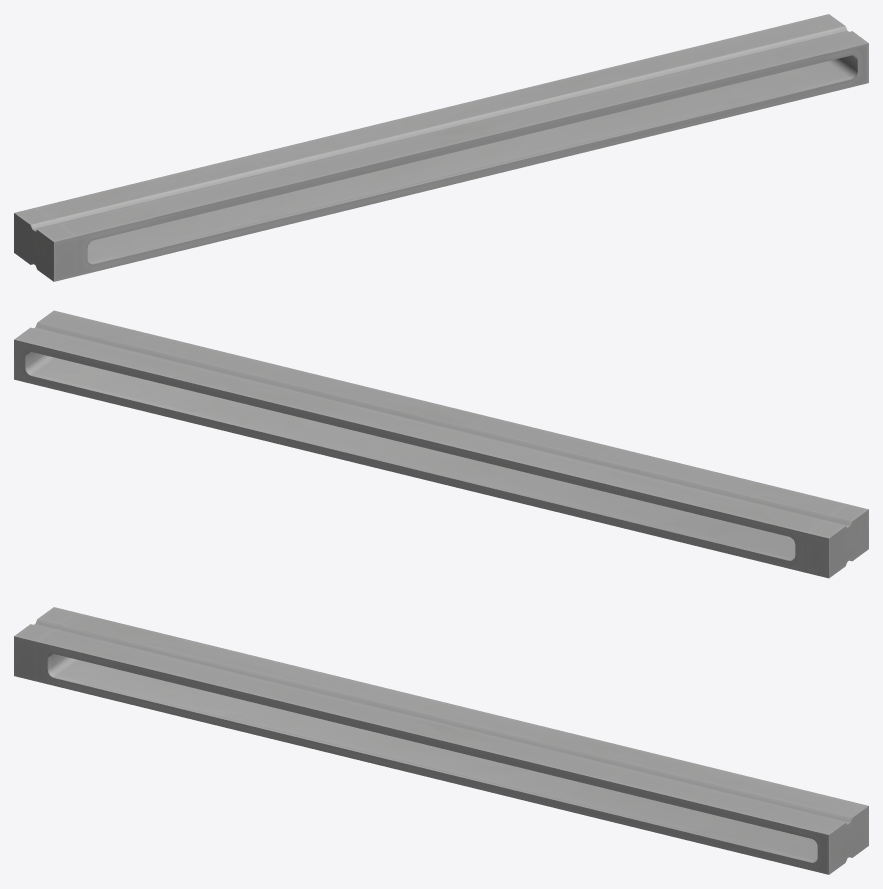
File: SM_Beam2.fbx
3 views of the same model, one above another, from view 1: azimuth 30°, elevation 25°; view 2: azimuth 150°, elevation 25°; view 3: azimuth 330°, elevation 25° (orthographic).
Parts seen in each view (by area): view 1: SM_Beam2_LOD0; view 2: SM_Beam2_LOD0; view 3: SM_Beam2_LOD0.
Part boxes in pixels (left/top/right/bottom): SM_Beam2_LOD0: left=14, top=14, right=868, bottom=281; SM_Beam2_LOD0: left=14, top=310, right=868, bottom=578; SM_Beam2_LOD0: left=14, top=607, right=868, bottom=874.
Size of the model in its own units: 200 by 16.98 by 9.39.
